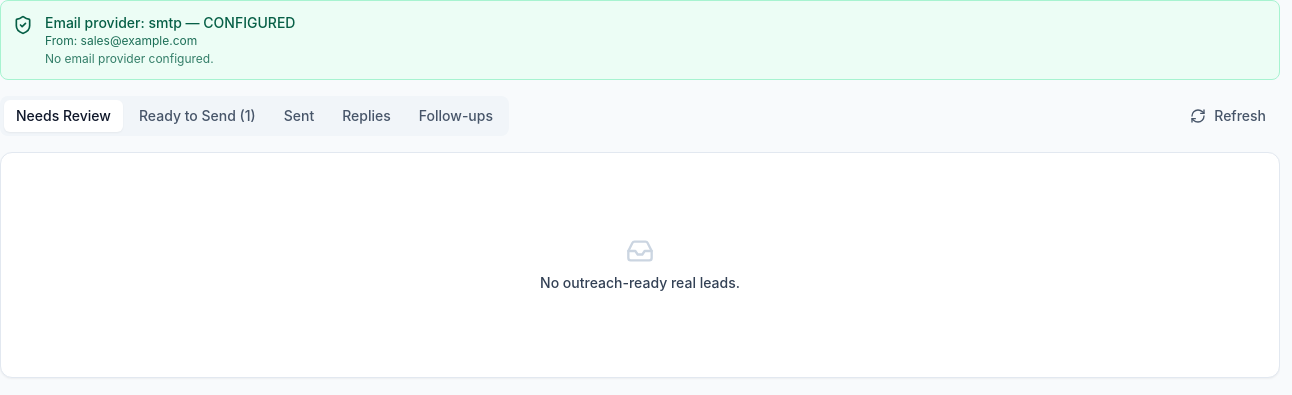
Test: OutreachWorkspace › enables Send for an APPROVED draft when the provider is configured
Step 1. Click the tab "Ready to Send (1)" → (197, 116), box [127,100,268,132]
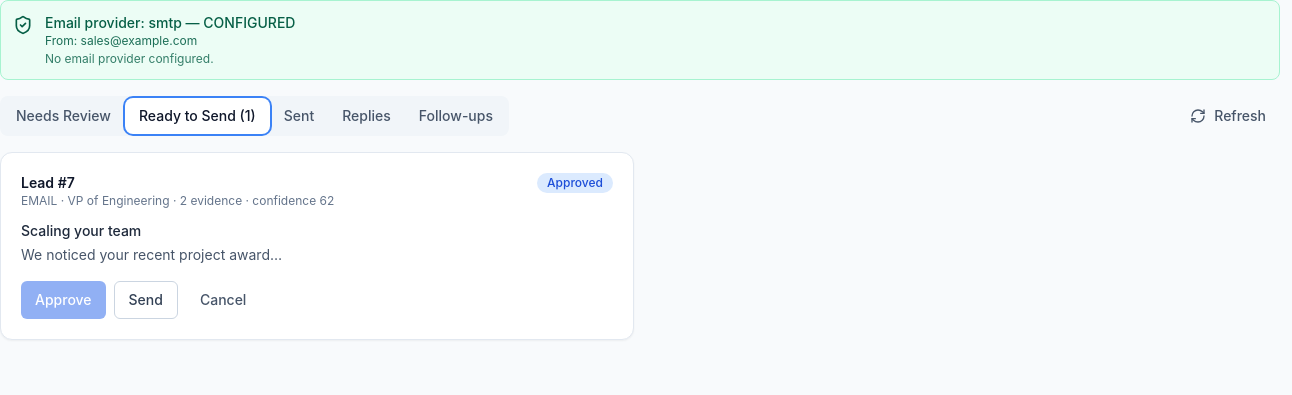
Expected: the button "Send" is enabled, [114,281,178,319]
